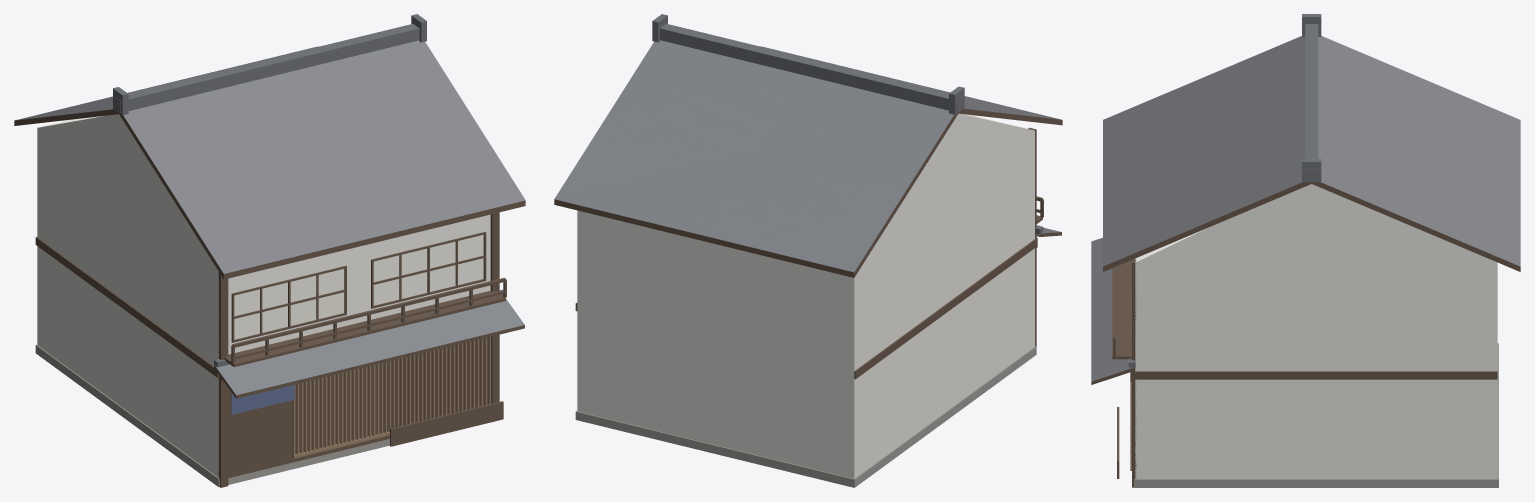
Rendered from HK_Machiya_C.glb.
3 renders of one model, left to right at view 1: azimuth 30°, elevation 25°; view 2: azimuth 150°, elevation 25°; view 3: azimuth 270°, elevation 25°, orthographic.
Parts seen in each view (by area): view 1: HK_Machiya_C; view 2: HK_Machiya_C; view 3: HK_Machiya_C.
Part boxes in pixels (x1,y1,x2,y2): HK_Machiya_C: (14, 14, 525, 487); HK_Machiya_C: (554, 14, 1062, 487); HK_Machiya_C: (1091, 14, 1520, 487).
Bounding box in the file's own units: 9.2 × 9.6 × 11.25.
